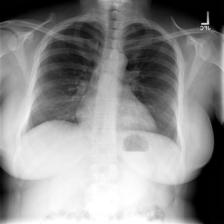normal: (20, 11, 186, 150)
